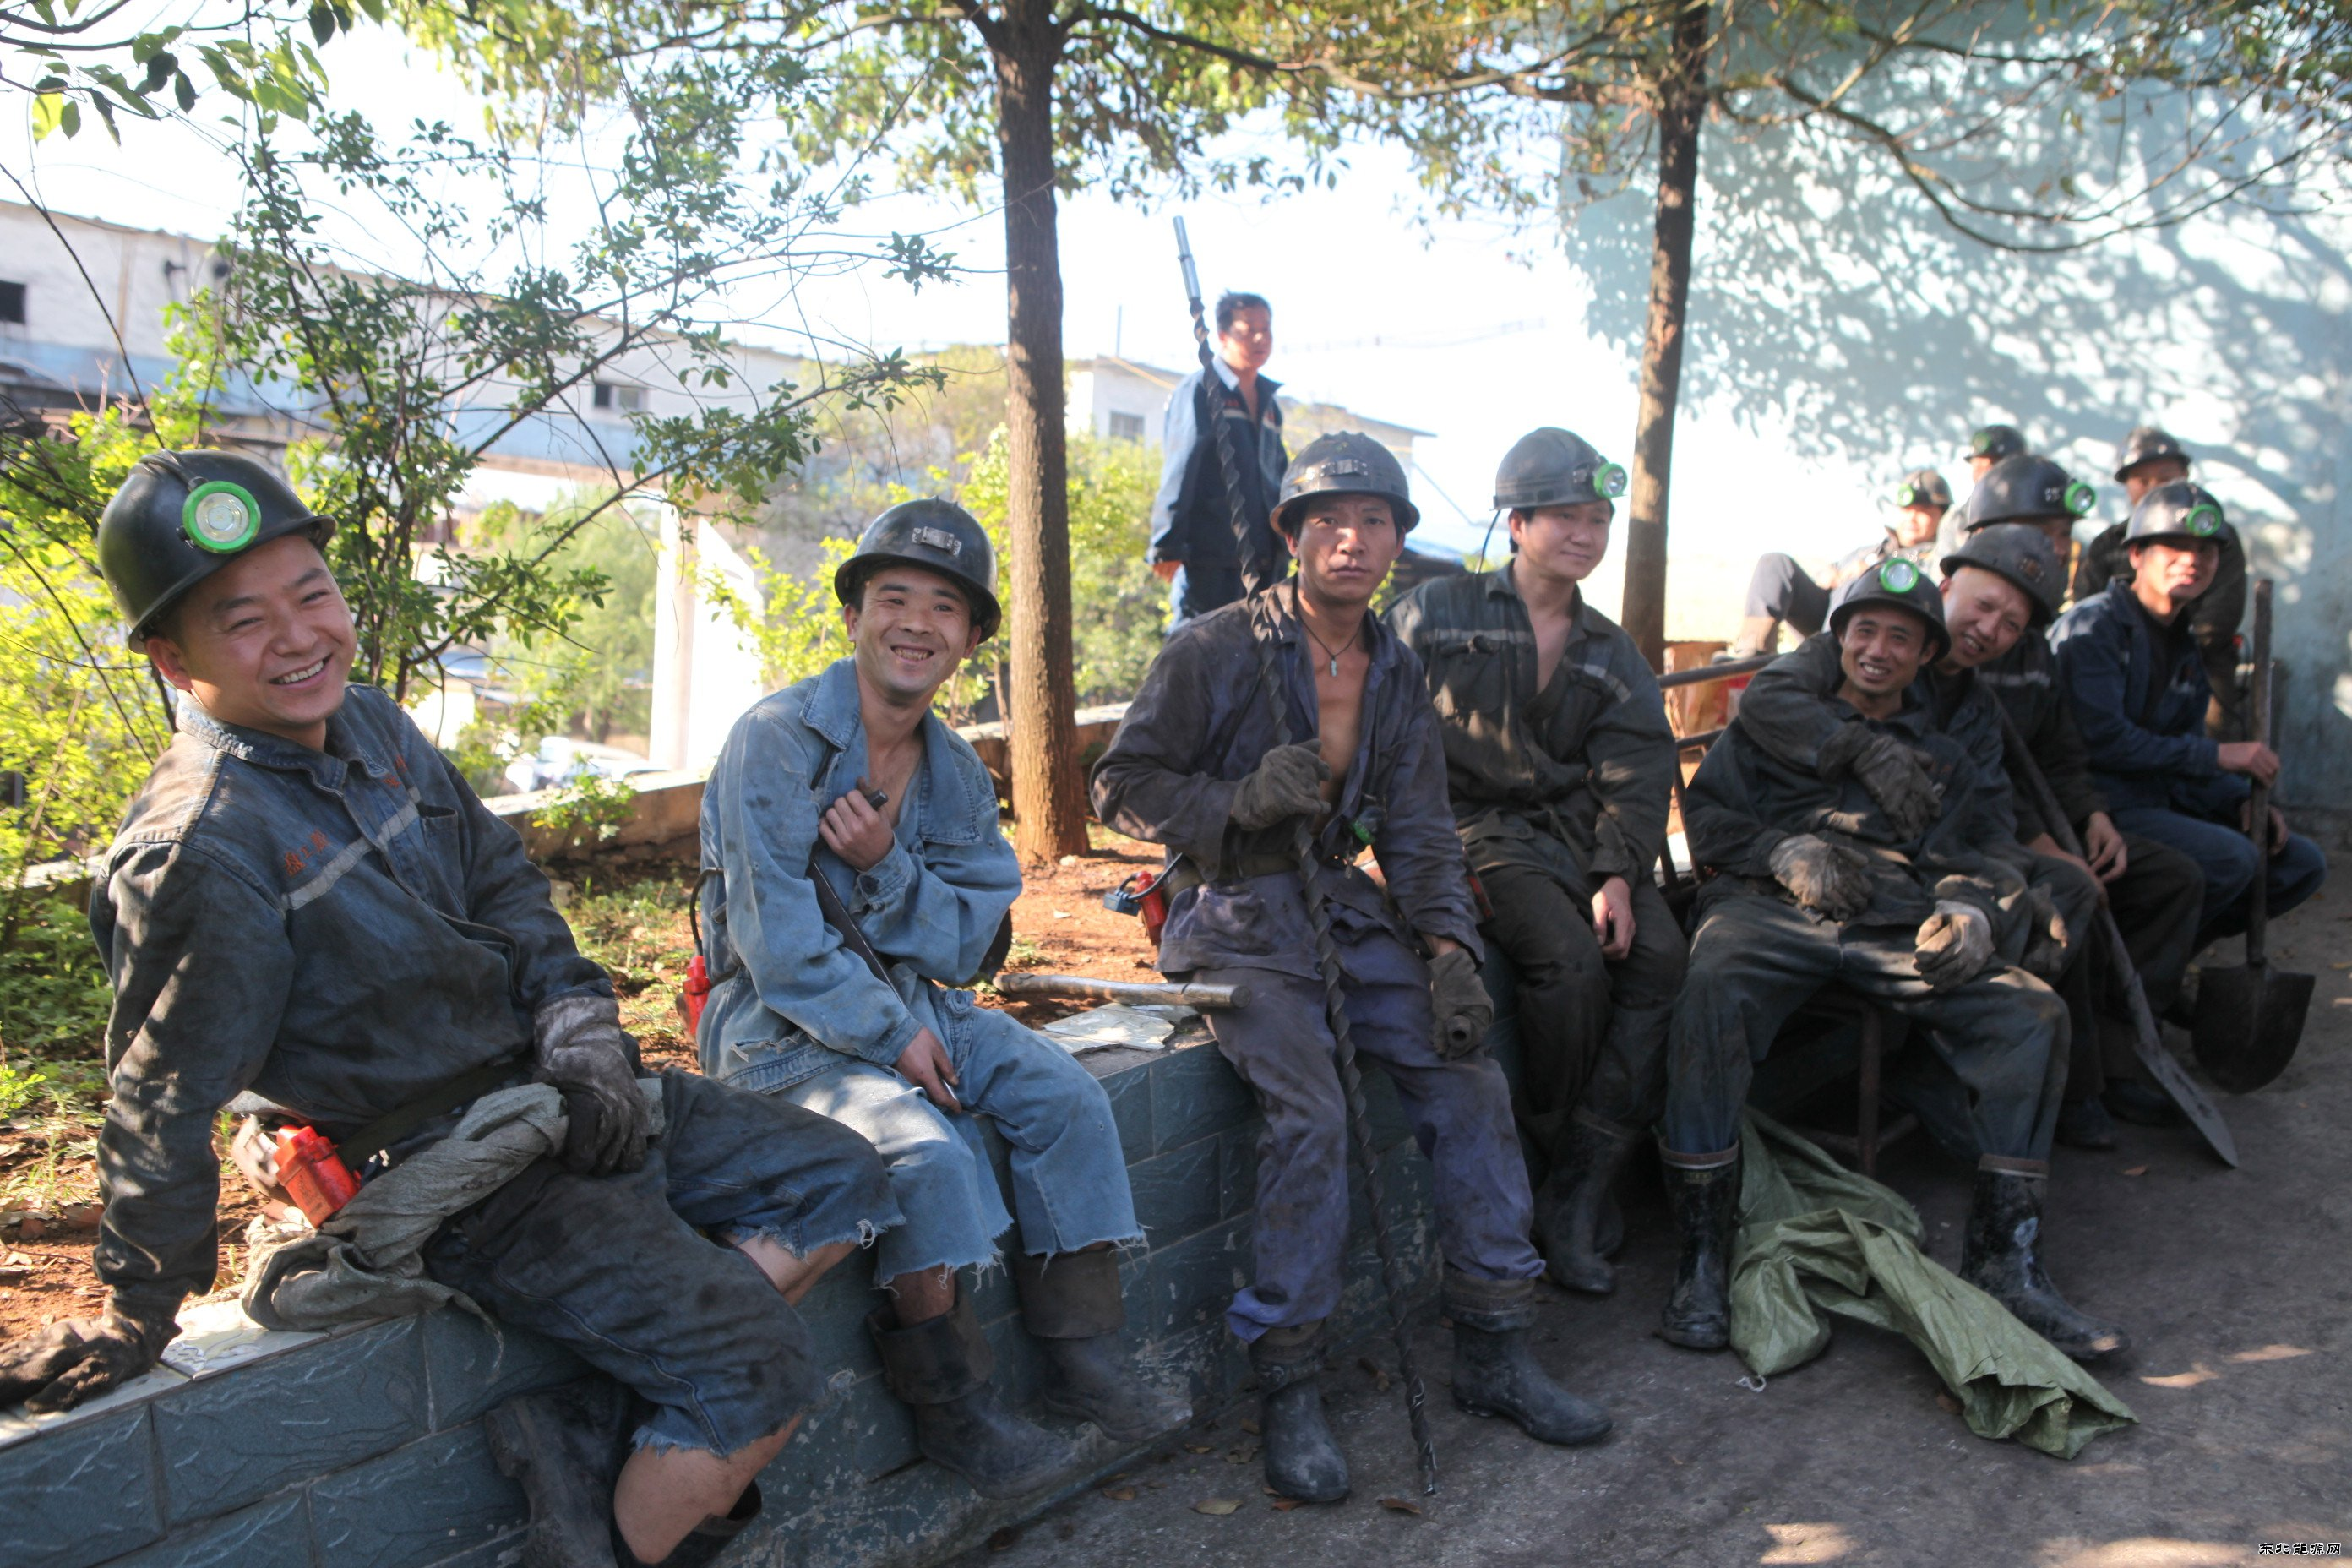helmet: (94, 438, 406, 733), (828, 490, 1012, 711), (1486, 411, 1650, 609), (1257, 418, 1407, 618)
